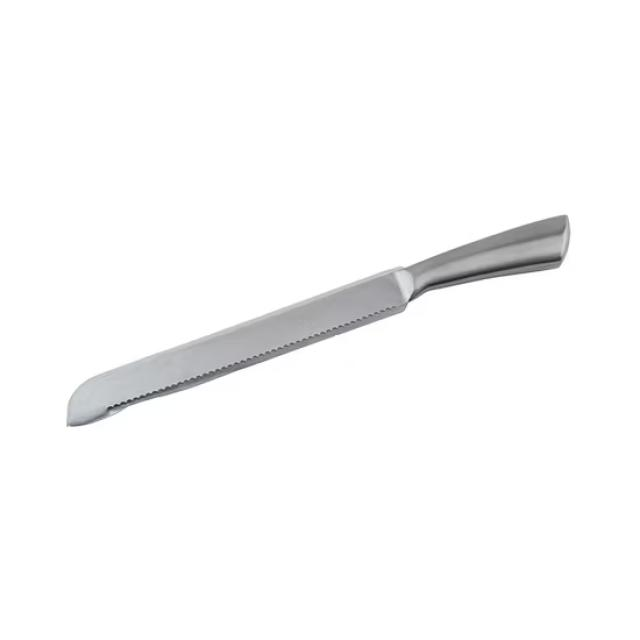Knife: (66, 216, 569, 427)
